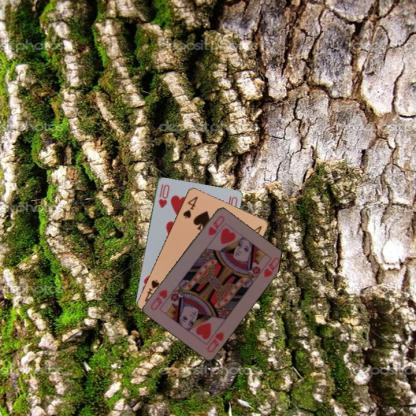10h: (156, 181, 170, 209)
4s: (180, 194, 199, 220)
Qh: (204, 328, 226, 353), (205, 213, 226, 237)
